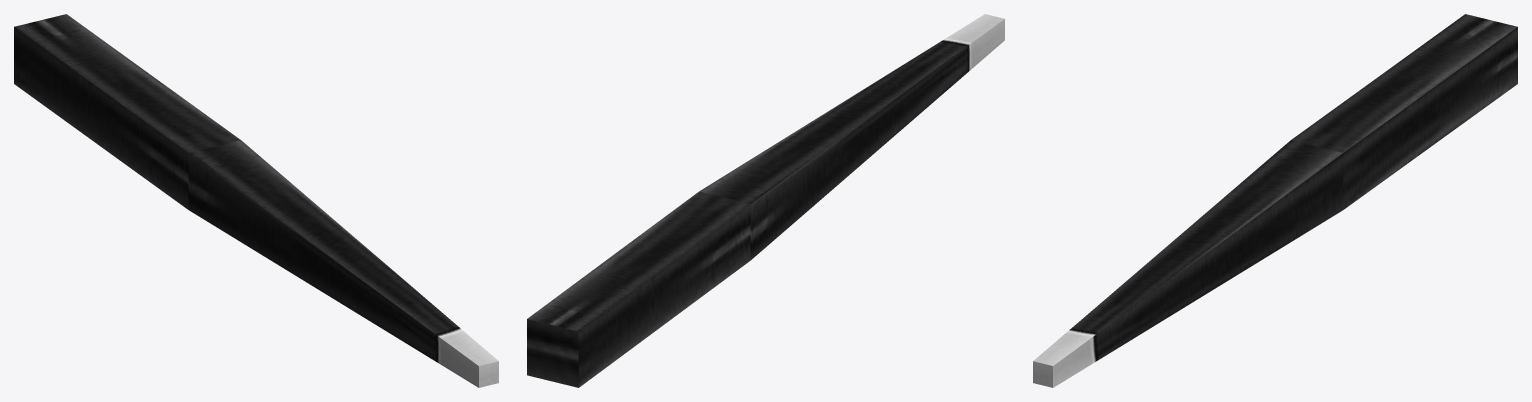
Rendered from wand.fbx.
The picture shows the model from 3 angles, left to right: view 1: azimuth 30°, elevation 25°; view 2: azimuth 150°, elevation 25°; view 3: azimuth 330°, elevation 25°; orthographic projection.
Visible parts, largest first — view 1: wand; view 2: wand; view 3: wand.
Part boxes in pixels (x1=…): wand: x1=14, y1=14, x2=498, y2=387; wand: x1=527, y1=14, x2=1004, y2=387; wand: x1=1033, y1=14, x2=1517, y2=387.
Bounding box in the file's own units: 4.13 × 4.42 × 61.05.
1 material, 1 textured.
